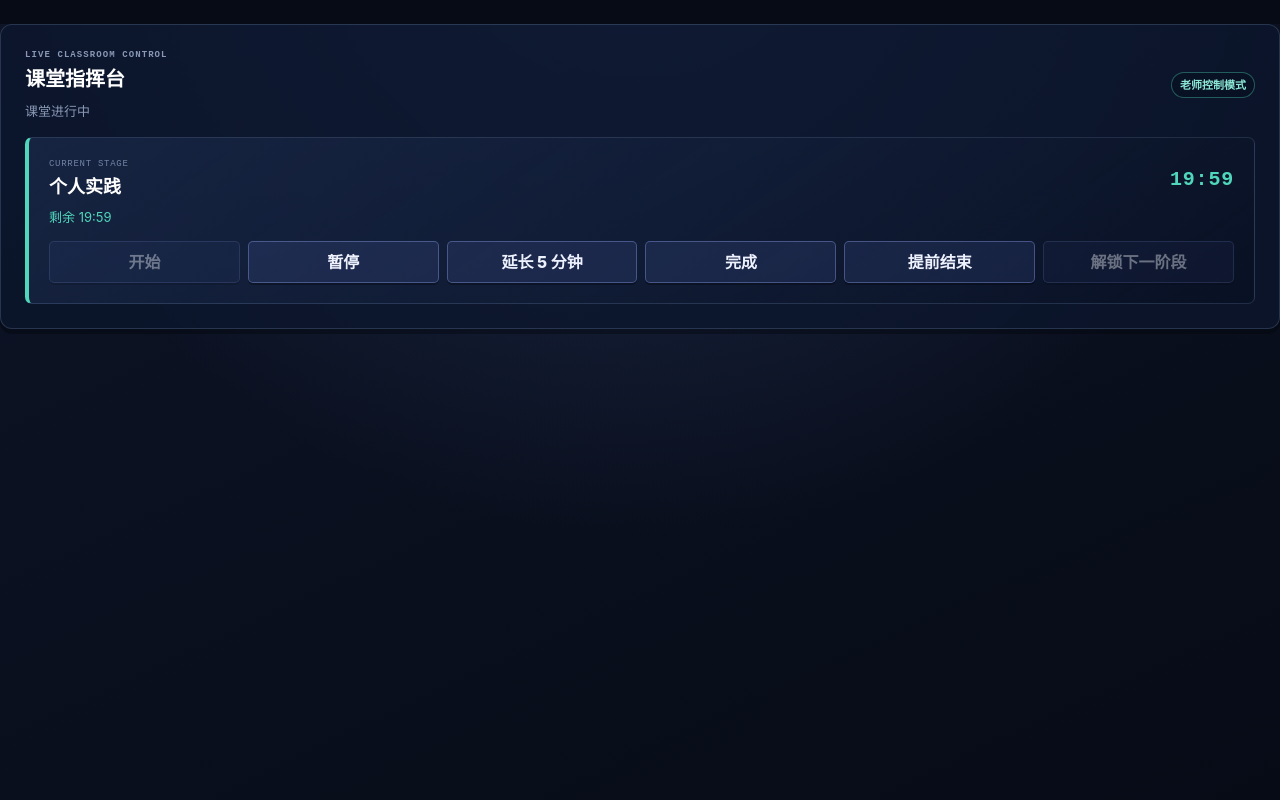
ClassroomControlPanel › shows a refresh hint when a stage update conflicts
The width and height of the screenshot is (1280, 800).
Click the button "暂停" at (343, 262), box [248, 241, 439, 283]
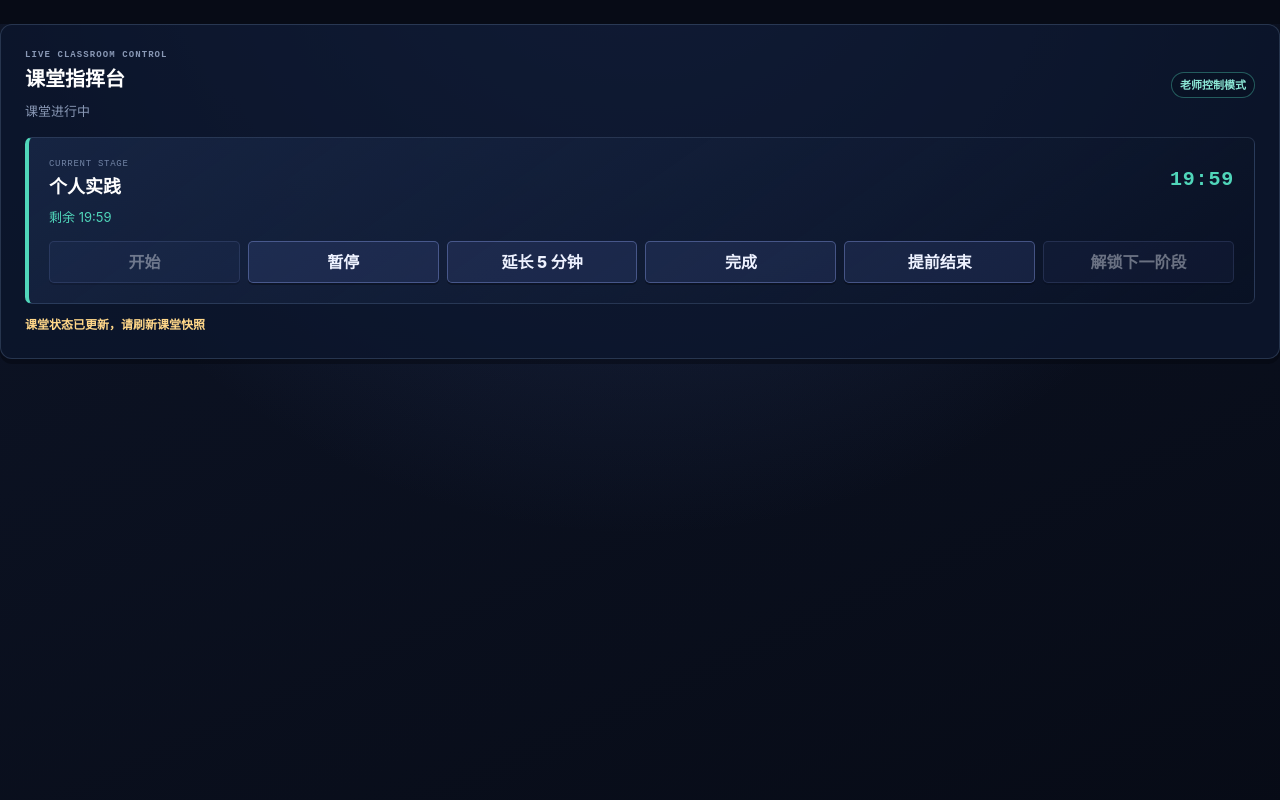
Expected: the text "课堂状态已更新，请刷新课堂快照" is shown, [25, 317, 205, 332]
